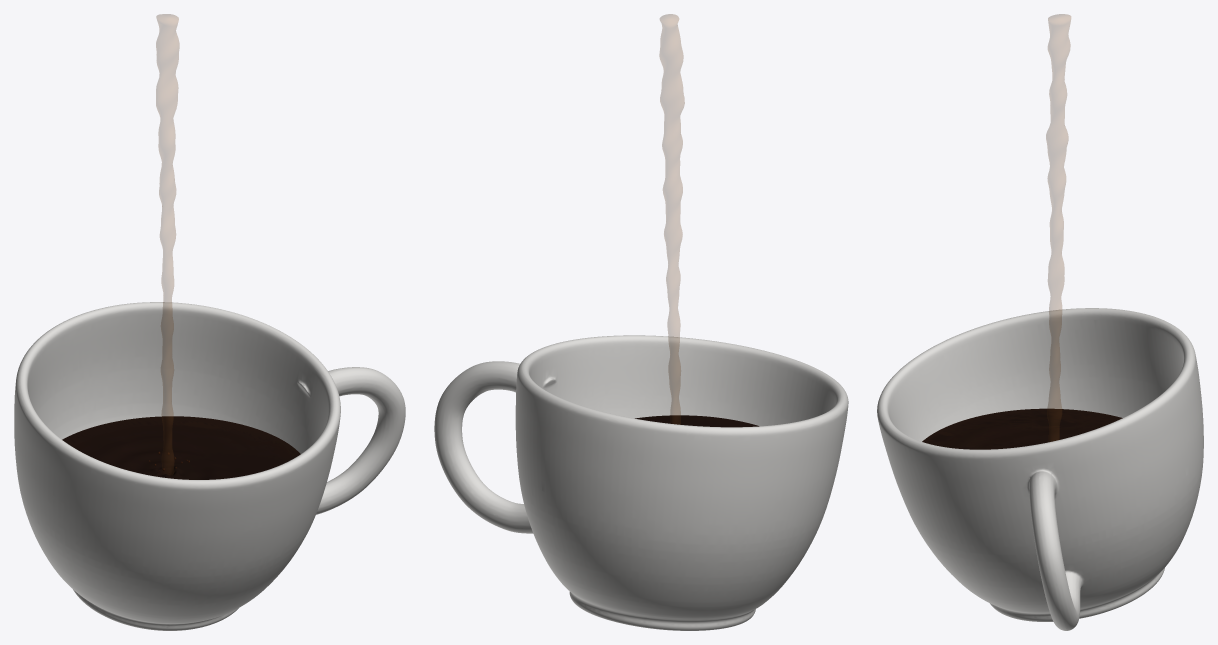
Rendered from ceh-coffee-pouring.glb.
3 renders of one model, left to right at view 1: azimuth 30°, elevation 25°; view 2: azimuth 150°, elevation 25°; view 3: azimuth 270°, elevation 25°, orthographic. The views are drawn at different scales.
Visible parts, largest first — view 1: CoffeeCup_Ceramic_Export, Coffee_Surface_Export, Coffee_Stream_Export; view 2: CoffeeCup_Ceramic_Export, Coffee_Stream_Export, Coffee_Surface_Export; view 3: CoffeeCup_Ceramic_Export, Coffee_Stream_Export, Coffee_Surface_Export.
Boxes of the visible parts, <box> form: CoffeeCup_Ceramic_Export: <box>14,302,405,630</box>; Coffee_Surface_Export: <box>62,416,300,479</box>; Coffee_Stream_Export: <box>156,14,179,475</box>; CoffeeCup_Ceramic_Export: <box>434,335,848,630</box>; Coffee_Stream_Export: <box>659,14,684,424</box>; Coffee_Surface_Export: <box>635,415,759,427</box>; CoffeeCup_Ceramic_Export: <box>877,308,1203,630</box>; Coffee_Stream_Export: <box>1046,14,1070,441</box>; Coffee_Surface_Export: <box>922,408,1122,449</box>.
Size of what is drawn, in the model's own units: 0.1263 by 0.1876 by 0.096.
Materials: 5 (2 with a texture image).
